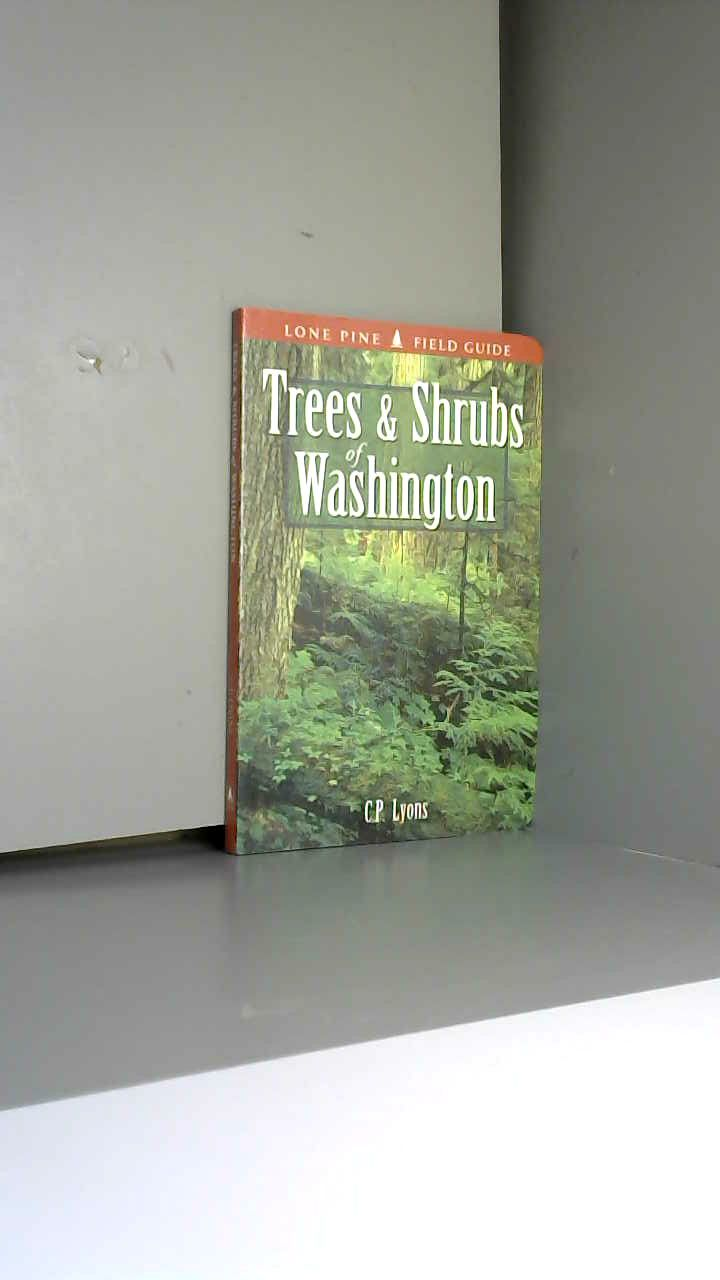book: (192, 274, 587, 893)
